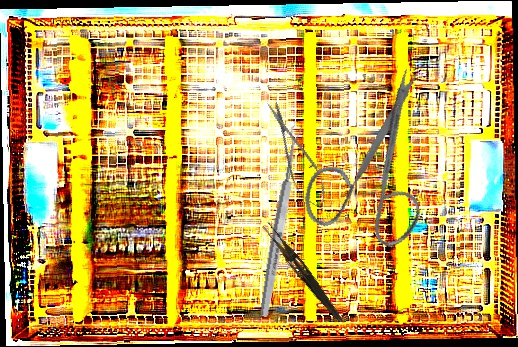Dressing Forceps: (258, 221, 349, 324)
Iris Scissors: (273, 62, 468, 268)
Micro Scissor: (258, 95, 335, 216)
Surgical Spoon: (257, 125, 304, 318)
